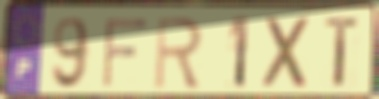1: (226, 13, 251, 94)
9: (51, 16, 92, 91)
F: (99, 15, 151, 91)
R: (152, 15, 206, 93)
T: (322, 14, 363, 92)
X: (262, 15, 315, 93)
